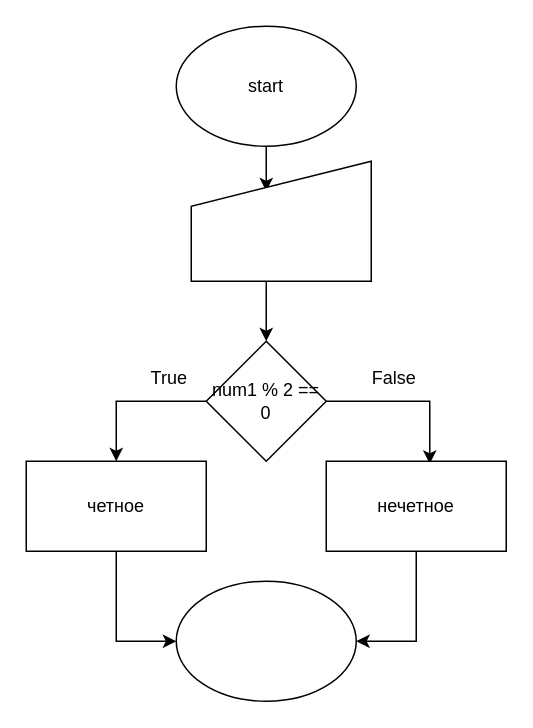
The diagram is 533 pixels wide and 728 high, and some of its shapes have lost their labels. Each missing label, with the centre of its shape:
"end" goes at point 265,640.
"num1" goes at point 280,220.
